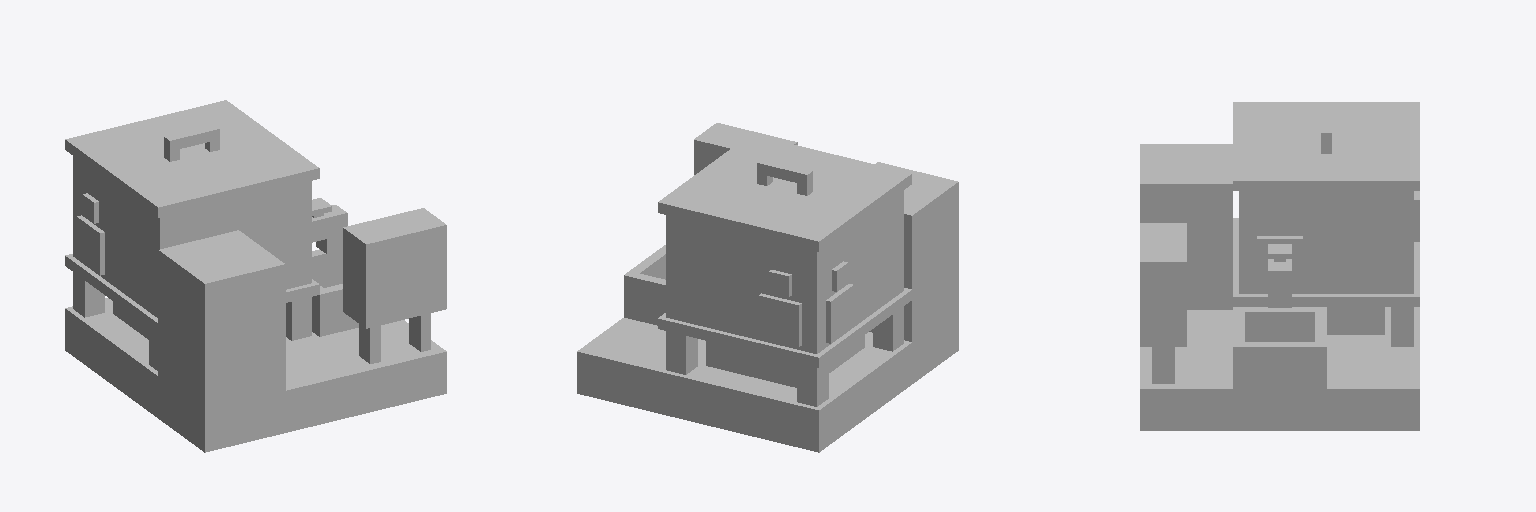
File: cookpot.obj
3 renders of one model, left to right at view 1: azimuth 30°, elevation 25°; view 2: azimuth 150°, elevation 25°; view 3: azimuth 270°, elevation 25°, orthographic.
Visible parts, largest first — view 1: base; view 2: base; view 3: base.
Part boxes in pixels (left/top/right/bottom): base: left=65, top=100, right=446, bottom=452; base: left=577, top=123, right=958, bottom=452; base: left=1140, top=102, right=1419, bottom=430.
Bounding box in the file's own units: 3 × 2.75 × 3.